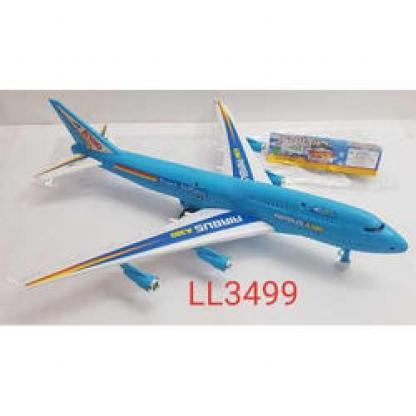CIV_Plane: (23, 93, 408, 306)
